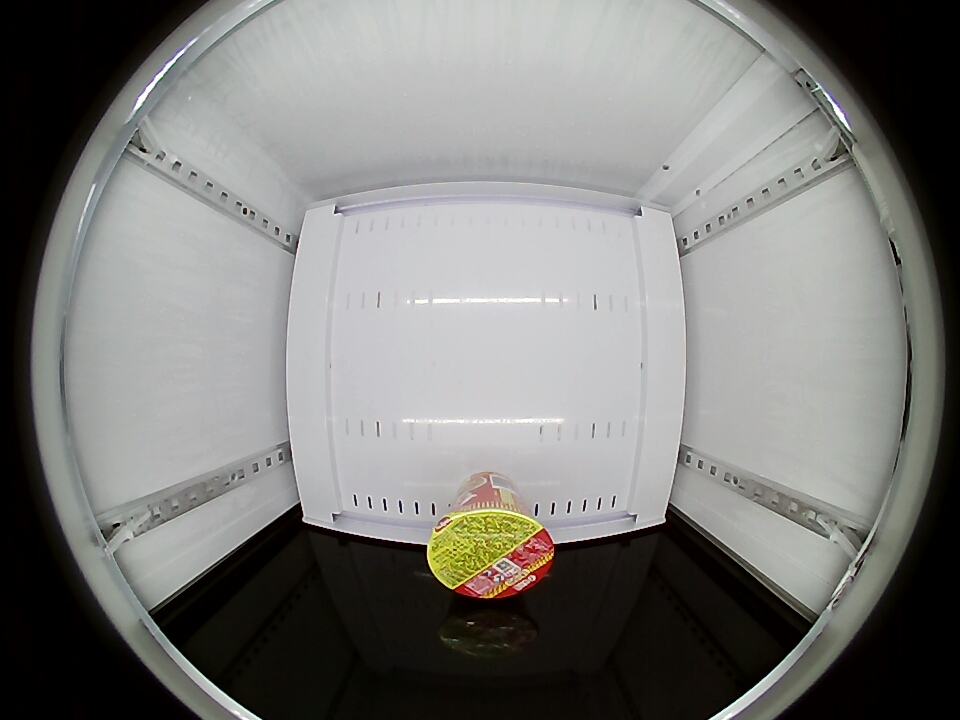heweidao3: (427, 498, 555, 599)
